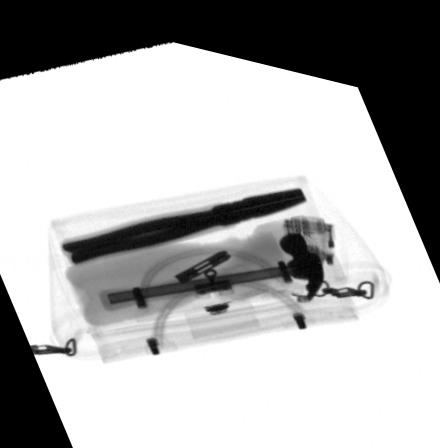Hammer: (98, 217, 324, 307)
Pliers: (60, 173, 307, 265)
